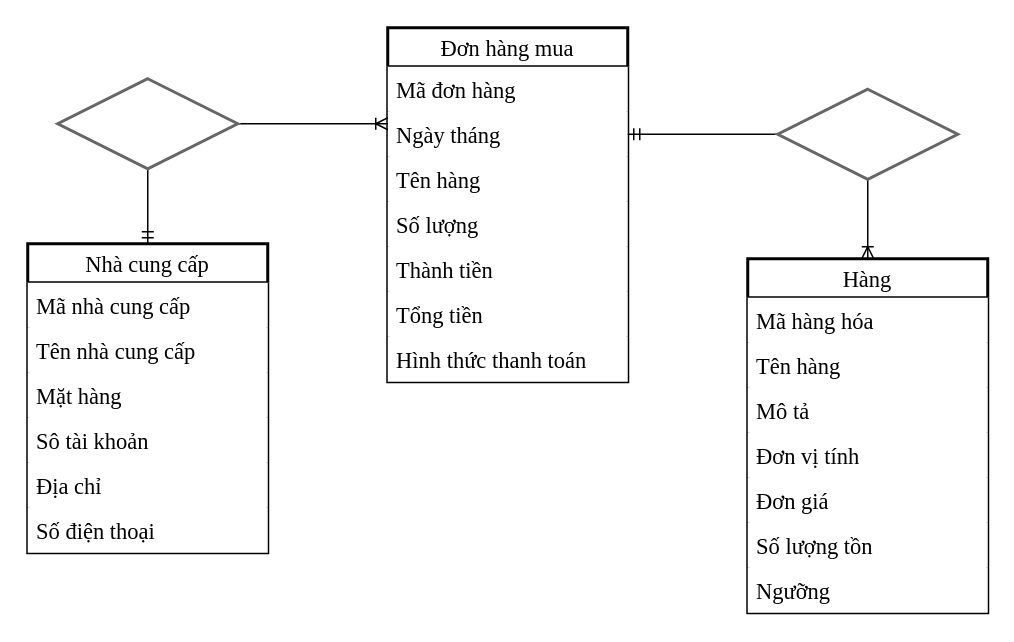
Image size: 1014x642. Some labels were removed from this diagram. Each missing label, with the centre of its shape:
"Gồm" belongs at [867,133].
"Thuộc" belongs at [147,123].
